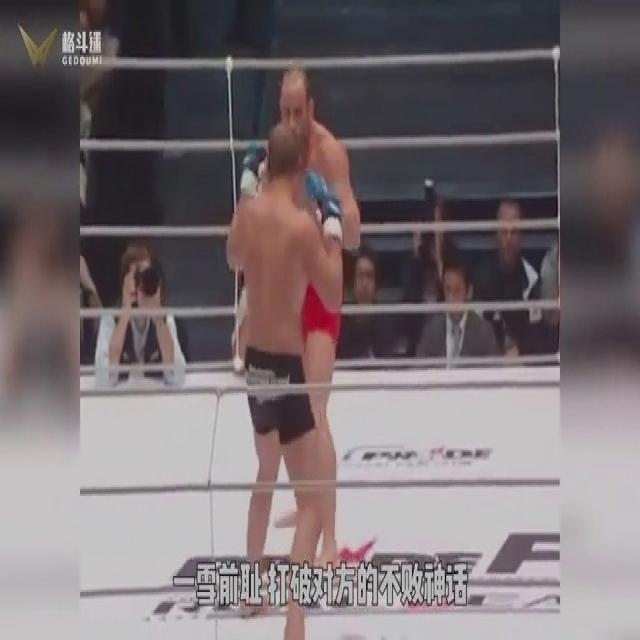fight: (224, 64, 365, 638)
